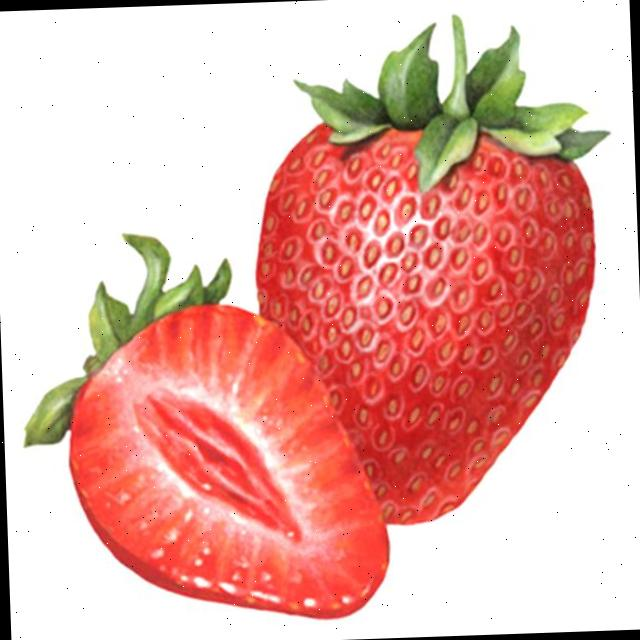strawberry: (256, 16, 606, 523), (25, 234, 388, 618)
